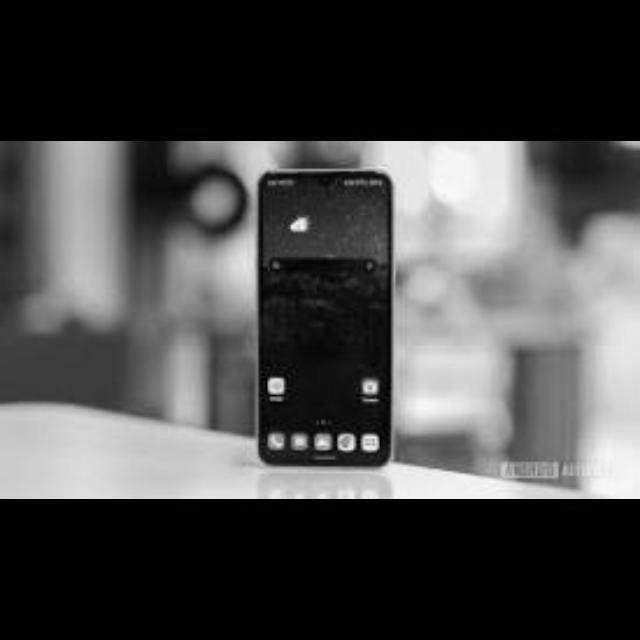fake: (256, 164, 394, 466)
